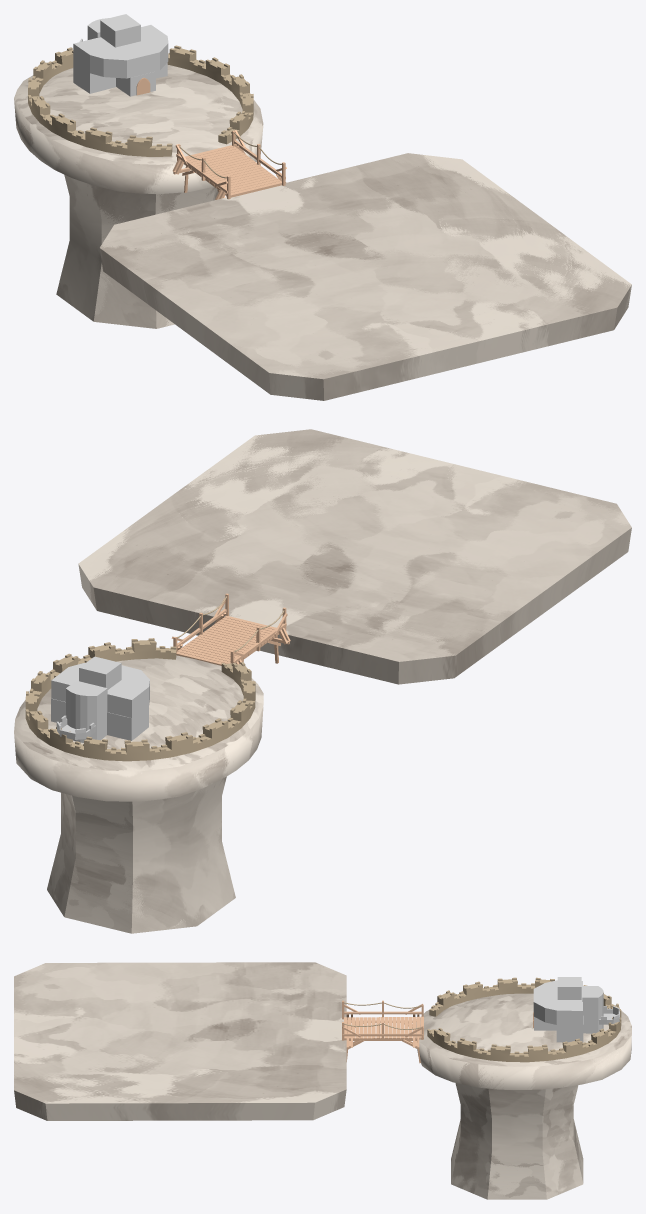
Rendered from blockout.fbx.
3 views of the same model, one above another, from view 1: azimuth 30°, elevation 25°; view 2: azimuth 150°, elevation 25°; view 3: azimuth 270°, elevation 25° (orthographic). The views are drawn at different scales.
Visible parts, largest first — view 1: Cube.018, Cube.008, Cube.012, Cylinder, Cube.005, Cube.011, Cube.007, Cube.003; view 2: Cube.018, Cube.012, Cube.008, Cylinder, Cube.011, Cube.005, Cube.009, Cube.003, Cube.007; view 3: Cube.018, Cube.012, Cube.008, Cylinder, Cube.005, Cube.011, Cube.009, Cube.007, Cube.003.
Part boxes in pixels (x1=…): Cube.018: x1=99, y1=153, x2=631, y2=400; Cube.008: x1=14, y1=65, x2=263, y2=194; Cube.012: x1=56, y1=174, x2=218, y2=328; Cylinder: x1=28, y1=45, x2=253, y2=156; Cube.005: x1=73, y1=25, x2=168, y2=78; Cube.011: x1=184, y1=145, x2=281, y2=197; Cube.007: x1=100, y1=14, x2=140, y2=47; Cube.003: x1=73, y1=62, x2=167, y2=93; Cube.018: x1=78, y1=429, x2=631, y2=684; Cube.012: x1=47, y1=776, x2=235, y2=933; Cube.008: x1=14, y1=655, x2=263, y2=801; Cylinder: x1=25, y1=638, x2=255, y2=761; Cube.011: x1=176, y1=615, x2=278, y2=665; Cube.005: x1=51, y1=663, x2=149, y2=718; Cube.009: x1=66, y1=680, x2=107, y2=742; Cube.003: x1=51, y1=698, x2=148, y2=740; Cube.007: x1=79, y1=656, x2=121, y2=689; Cube.018: x1=14, y1=962, x2=346, y2=1120; Cube.012: x1=451, y1=1083, x2=583, y2=1199; Cube.008: x1=416, y1=993, x2=631, y2=1089; Cylinder: x1=427, y1=977, x2=621, y2=1062; Cube.005: x1=533, y1=980, x2=582, y2=1025; Cube.011: x1=344, y1=1016, x2=423, y2=1040; Cube.009: x1=582, y1=986, x2=603, y2=1033; Cube.007: x1=557, y1=977, x2=581, y2=999; Cube.003: x1=556, y1=1016, x2=583, y2=1042.
Size of the model in its own units: 2744 by 1751 by 5099.
3 materials, 1 textured.
